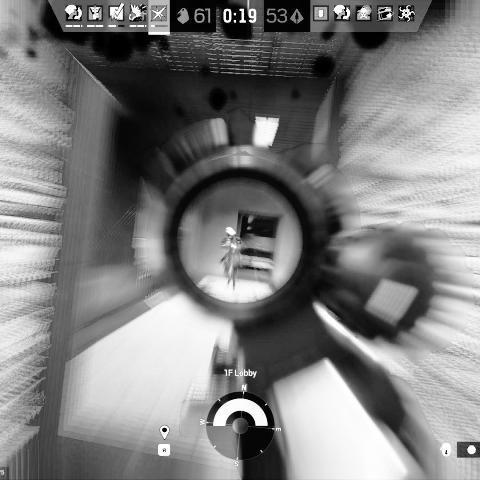Character: (219, 225, 243, 292)
Head: (225, 226, 236, 238)
